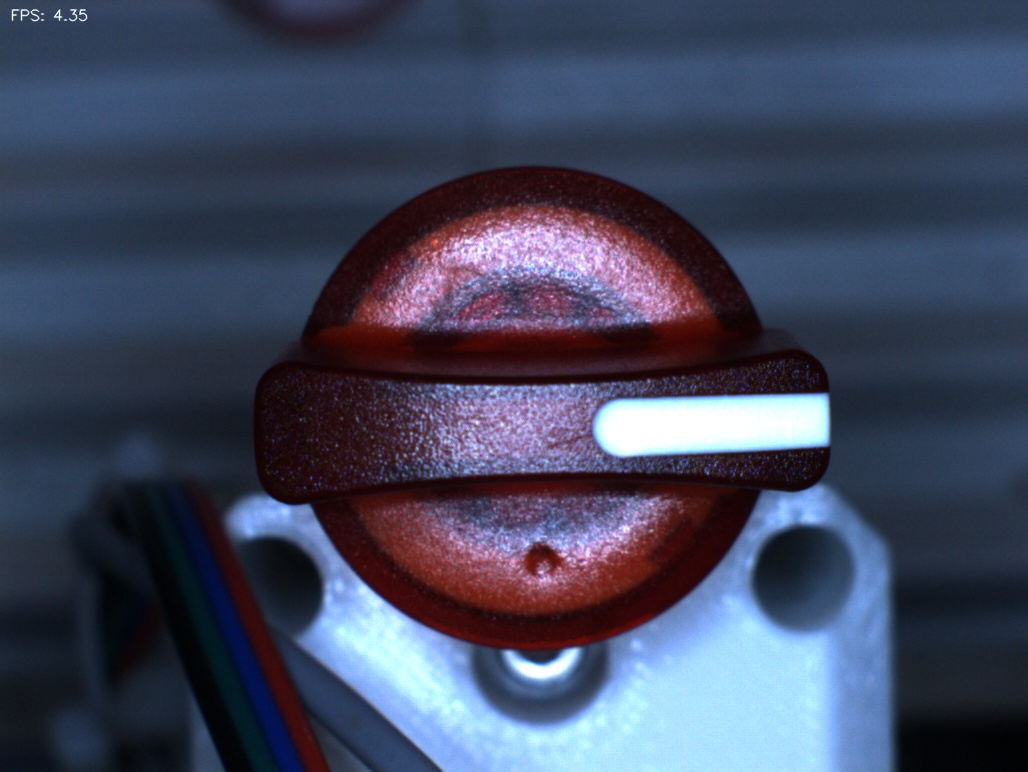Choc: (503, 519, 581, 597)
